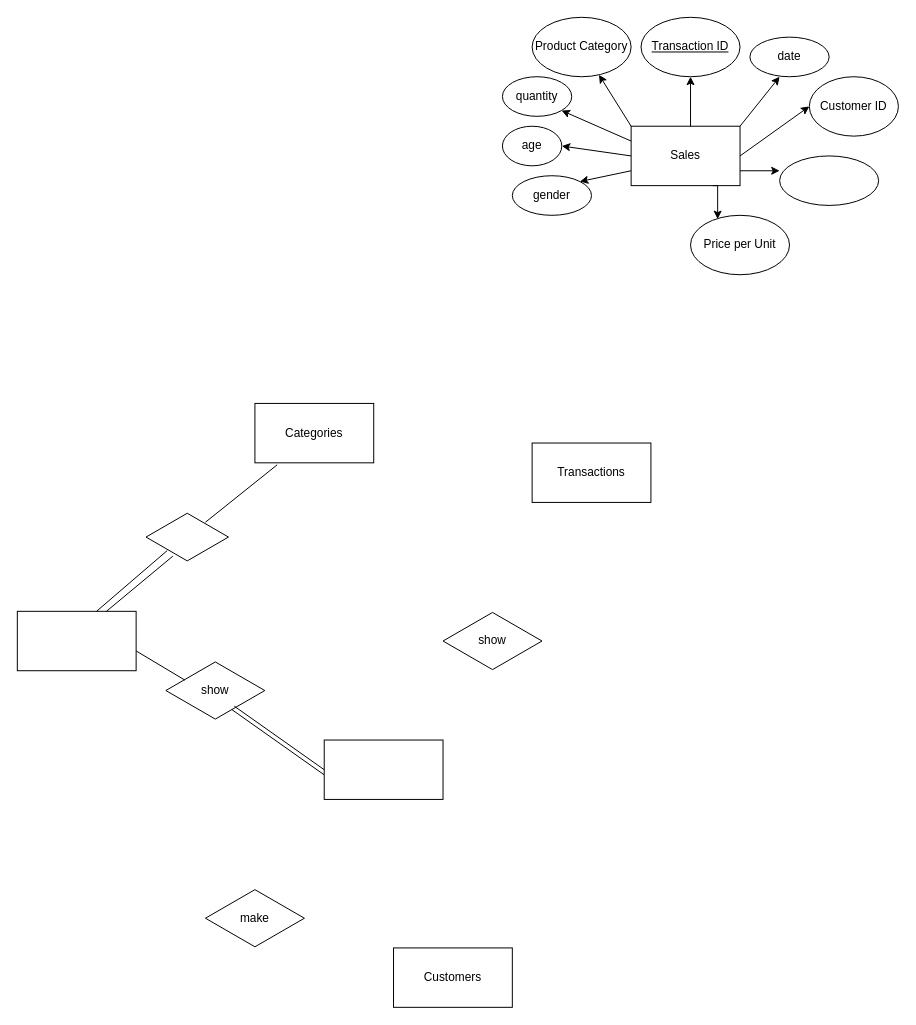
The diagram is 916 pixels wide and 1025 high, and some of its shapes have lost their labels. Here are the shapes that lost their labels. From the top down, the centre of each, then its label:
At point (829, 180): "Total Amount".
At point (186, 536): "of".
At point (76, 640): "Products".
At point (383, 769): "Transaction_Details".
